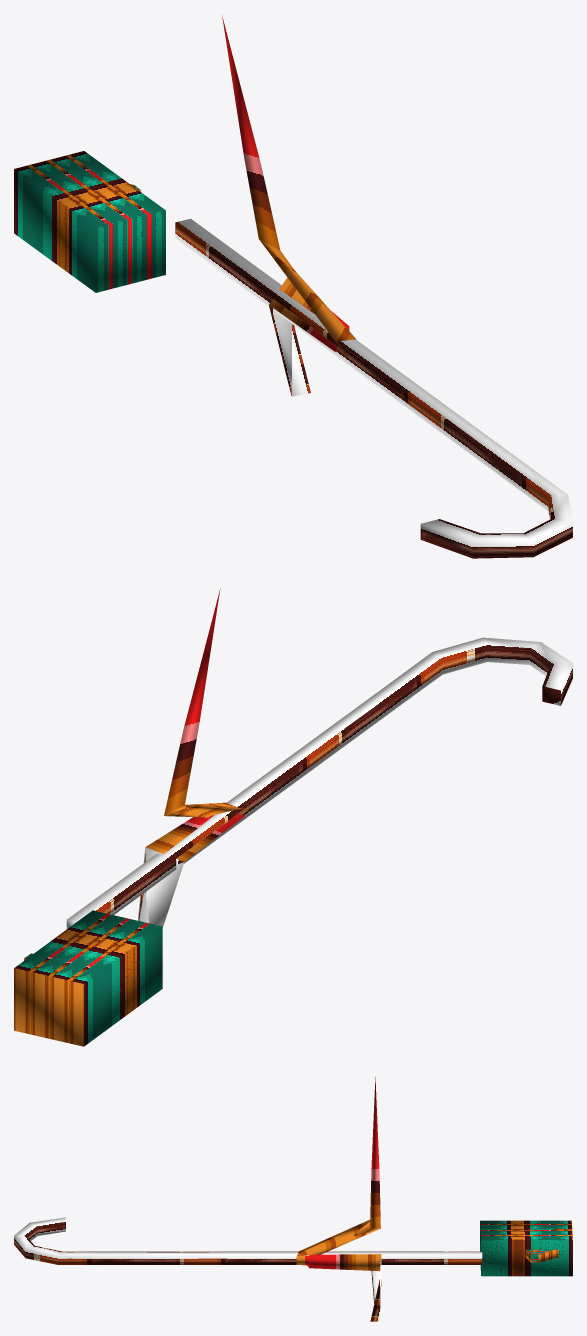
Rendered from 11_02_stick.gltf.
The picture shows the model from 3 angles, top to bottom: view 1: azimuth 30°, elevation 25°; view 2: azimuth 150°, elevation 25°; view 3: azimuth 270°, elevation 25°; orthographic projection. The views are drawn at different scales.
Visible parts, largest first — view 1: 11_02_stick; view 2: 11_02_stick; view 3: 11_02_stick.
Boxes of the visible parts, x1,y1,x2,y2 form: 11_02_stick: (14,15,572,558); 11_02_stick: (14,589,572,1046); 11_02_stick: (14,1077,572,1321).
Size of the model in its own units: 0.2617 by 0.6205 by 1.4.
2 materials, 2 textured.
